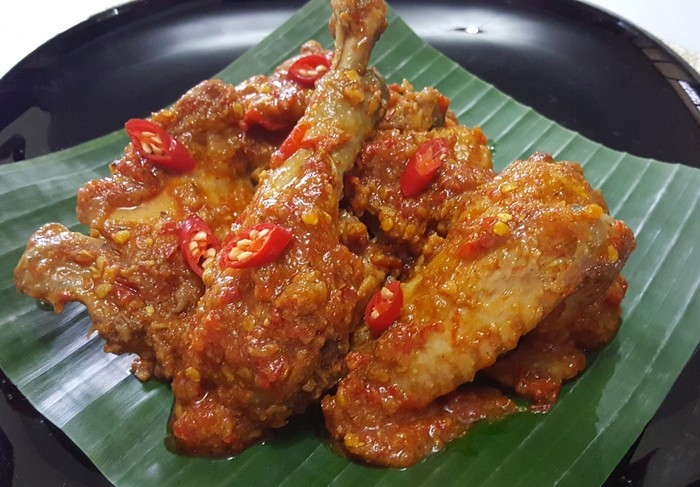Ayam: (133, 71, 391, 423), (351, 163, 616, 467)
